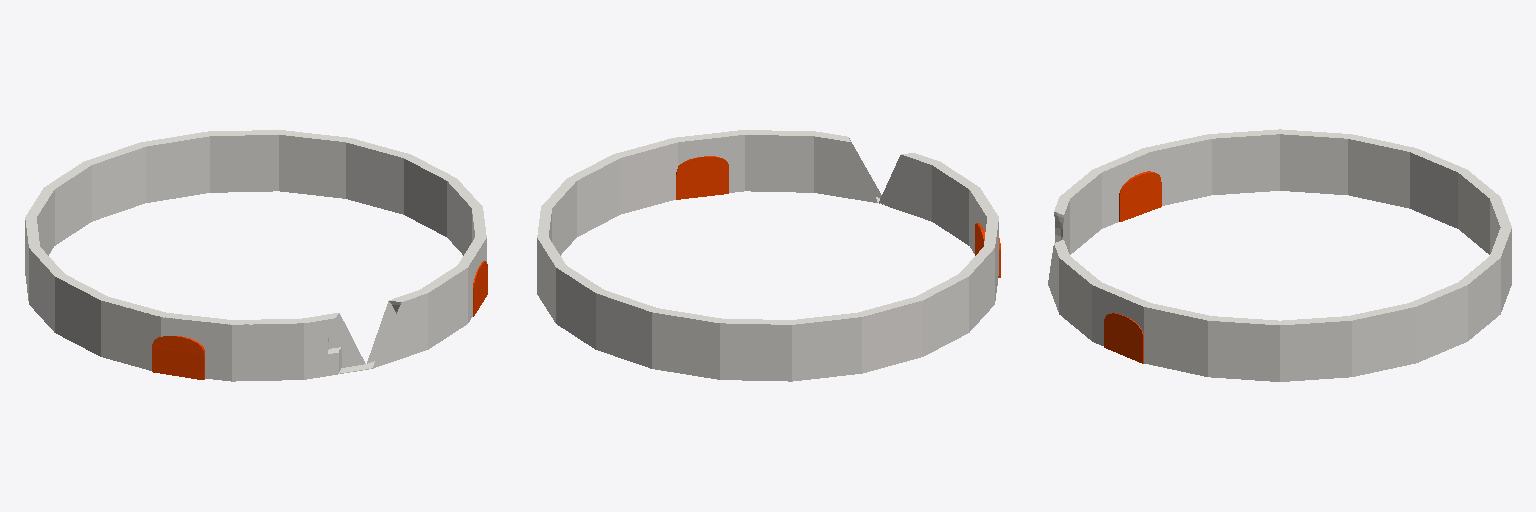
3 renders of one model, left to right at view 1: azimuth 30°, elevation 25°; view 2: azimuth 150°, elevation 25°; view 3: azimuth 270°, elevation 25°, orthographic.
Visible parts, largest first — view 1: pCylinder10, pasted__pCylinder10 group49, pasted__pCube12 group50, pCube12; view 2: pCylinder10, pCube12, pasted__pCylinder10 group49; view 3: pCylinder10, pasted__pCube12 group50, pCube12, pasted__pCylinder10 group49.
Boxes of the visible parts, x1,y1,x2,y2 form: pCylinder10: [25, 130, 486, 379]; pasted__pCylinder10 group49: [101, 297, 303, 381]; pasted__pCube12 group50: [152, 336, 204, 379]; pCube12: [473, 261, 487, 316]; pCylinder10: [537, 130, 998, 381]; pCube12: [676, 156, 728, 199]; pasted__pCylinder10 group49: [961, 175, 998, 247]; pCylinder10: [1048, 129, 1511, 381]; pasted__pCube12 group50: [1119, 171, 1161, 221]; pCube12: [1104, 313, 1143, 363]; pasted__pCylinder10 group49: [1068, 134, 1211, 189].
Bounding box in the file's own units: 9.1 × 1.24 × 9.1.
4 materials, 2 textured.